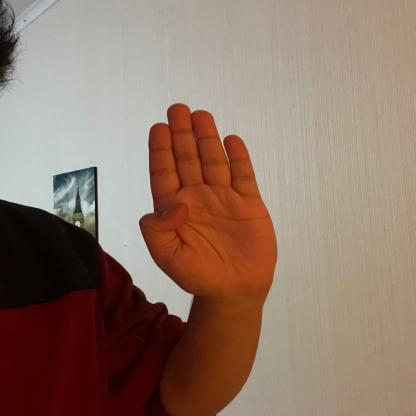B: (135, 100, 283, 290)
